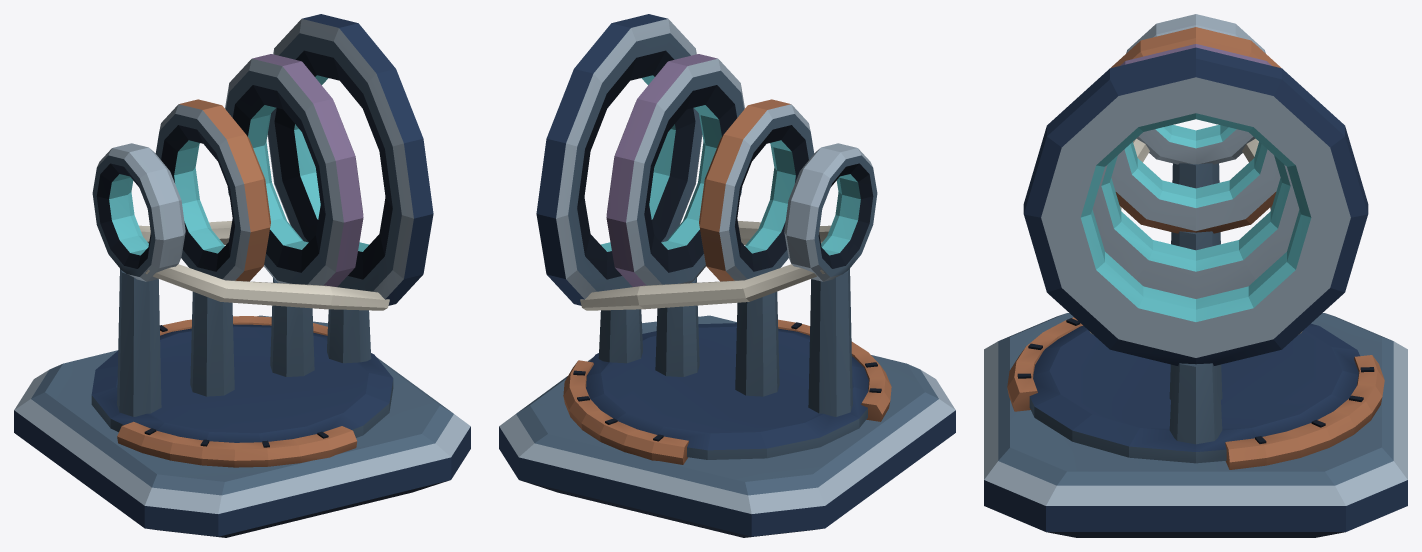
The model's file is doppler.glb.
3 renders of one model, left to right at view 1: azimuth 30°, elevation 25°; view 2: azimuth 150°, elevation 25°; view 3: azimuth 270°, elevation 25°, orthographic. The views are drawn at different scales.
Parts seen in each view (by area): view 1: doppler; view 2: doppler; view 3: doppler.
Part boxes in pixels (x1,y1,x2,y2): doppler: [14, 14, 470, 537]; doppler: [499, 14, 955, 537]; doppler: [984, 14, 1407, 537].
Size of the model in its own units: 0.98 by 1.17 by 0.96.
